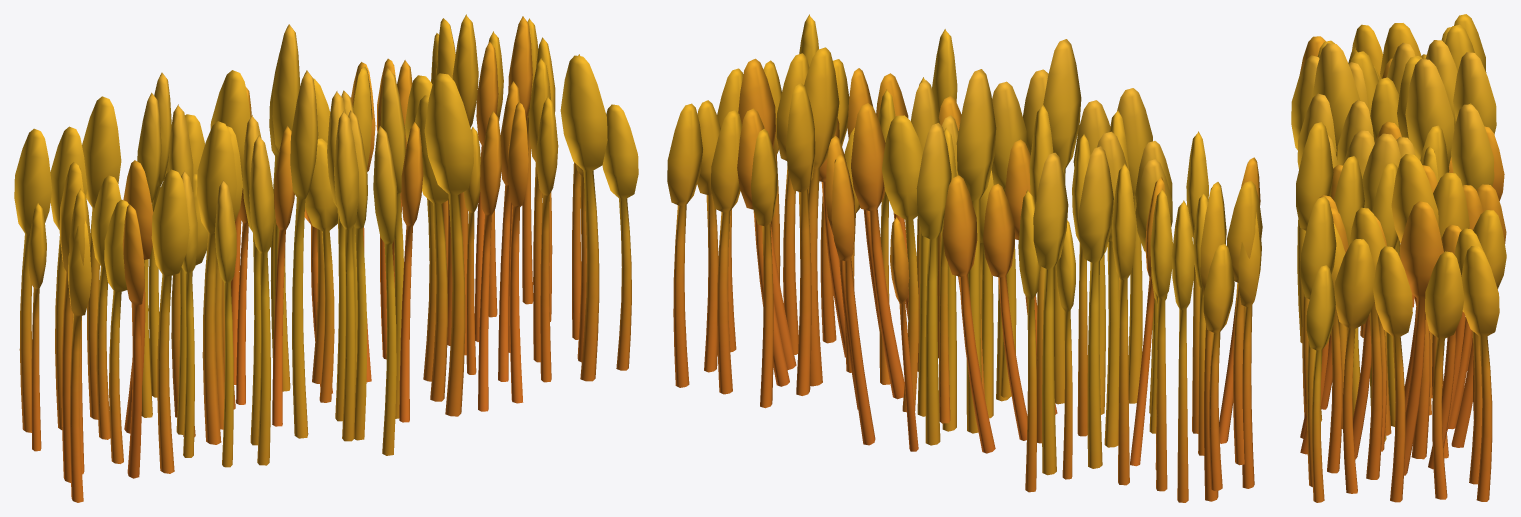
File: wheat.fbx
The picture shows the model from 3 angles, left to right: view 1: azimuth 30°, elevation 25°; view 2: azimuth 150°, elevation 25°; view 3: azimuth 270°, elevation 25°; orthographic projection. The views are drawn at different scales.
Parts seen in each view (by area): view 1: Farm_Wheat; view 2: Farm_Wheat; view 3: Farm_Wheat.
Part boxes in pixels (x1,y1,x2,y2): Farm_Wheat: (14,14,638,502); Farm_Wheat: (667,14,1262,502); Farm_Wheat: (1291,14,1506,502).
Size of the model in its own units: 73.64 by 51.17 by 28.77.
Materials: 1 (1 with a texture image).
